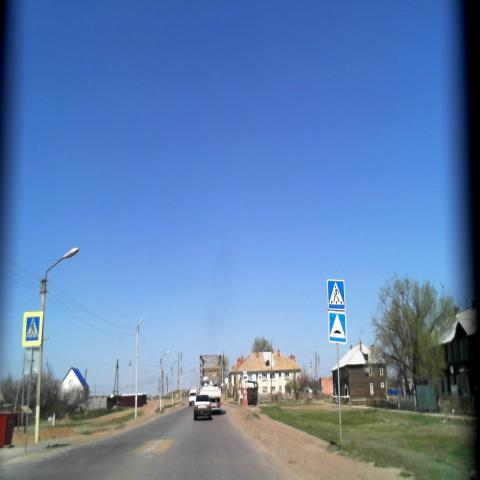5_20: (329, 311, 348, 341)
